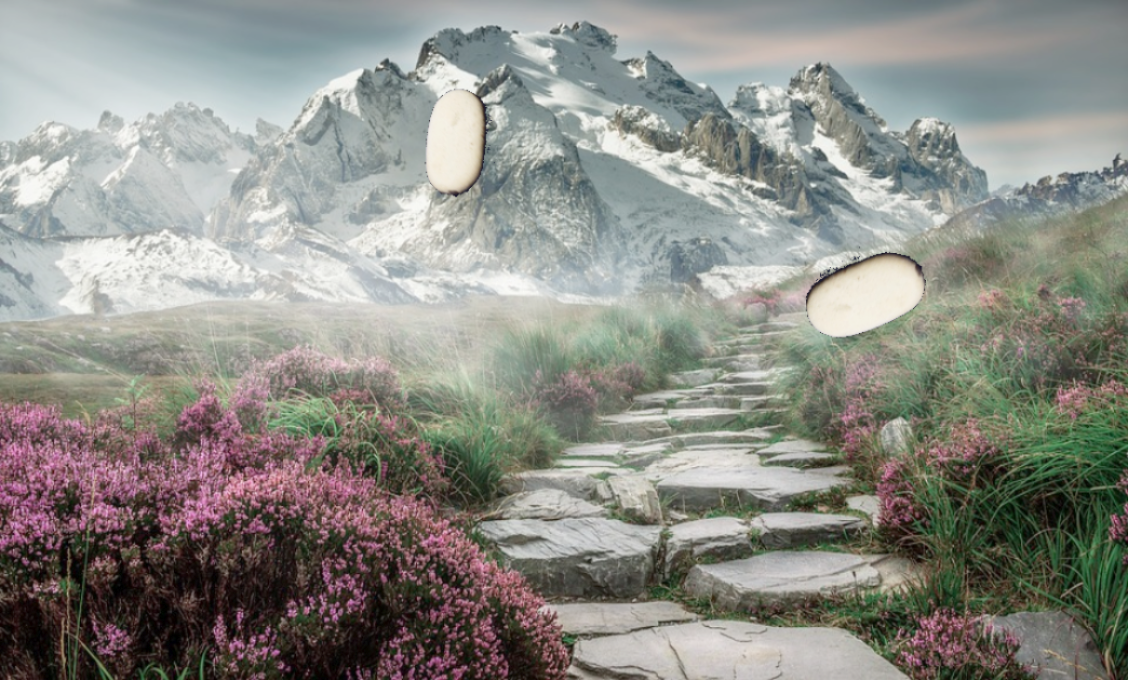test: (794, 219, 937, 361), (391, 76, 527, 212)
